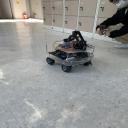cart: (45, 44, 96, 72)
